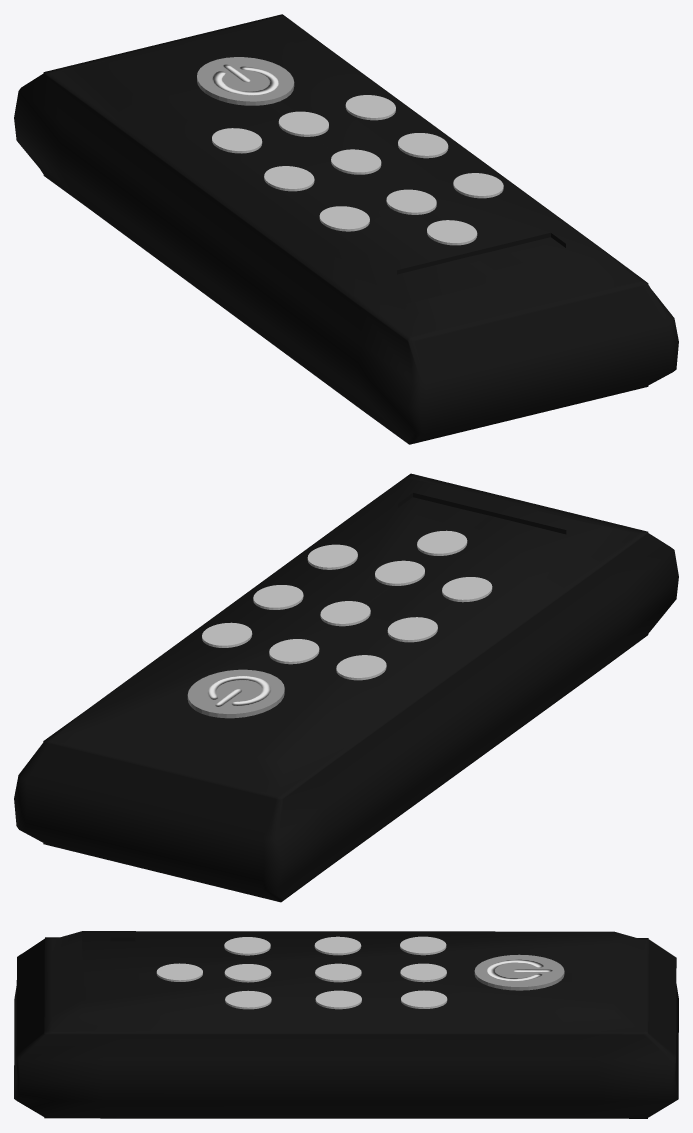
File: remotecontrol.obj
The picture shows the model from 3 angles, top to bottom: view 1: azimuth 30°, elevation 25°; view 2: azimuth 150°, elevation 25°; view 3: azimuth 270°, elevation 25°; orthographic projection. The views are drawn at different scales.
Visible parts, largest first — view 1: remote_control_Cube.004; view 2: remote_control_Cube.004; view 3: remote_control_Cube.004.
Part boxes in pixels (left/top/right/bottom): remote_control_Cube.004: left=14, top=14, right=678, bottom=444; remote_control_Cube.004: left=14, top=473, right=678, bottom=902; remote_control_Cube.004: left=14, top=931, right=678, bottom=1118.
Size of the model in its own units: 0.1036 by 0.045 by 0.2664.
